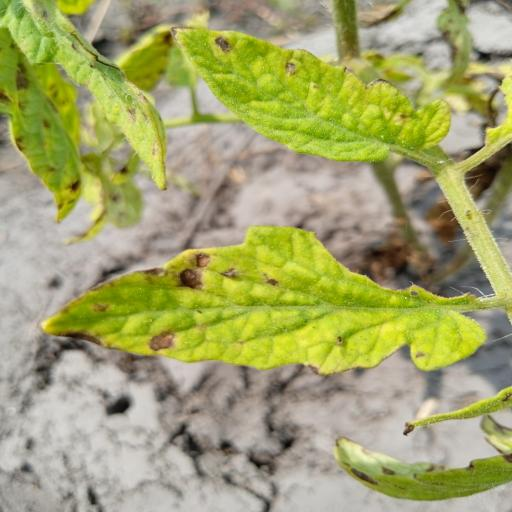Tomato_Brown_Spots: (35, 216, 493, 374)
